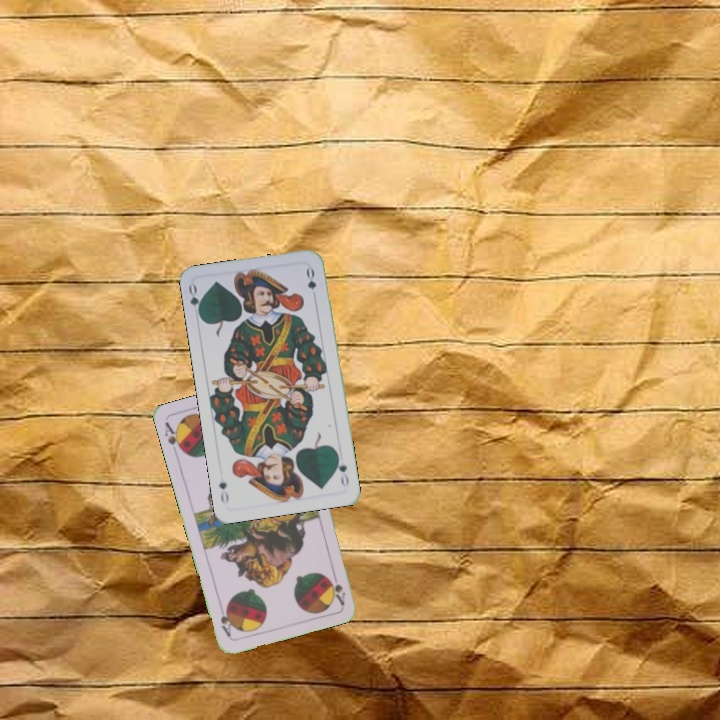GO: (184, 280, 205, 321), (332, 450, 351, 490)
SA: (161, 418, 186, 456), (328, 567, 348, 607)
